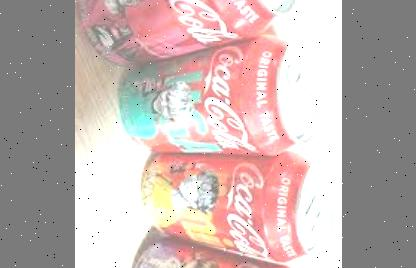Can: (118, 35, 324, 155), (140, 152, 332, 258), (75, 0, 300, 68), (125, 238, 329, 268)
